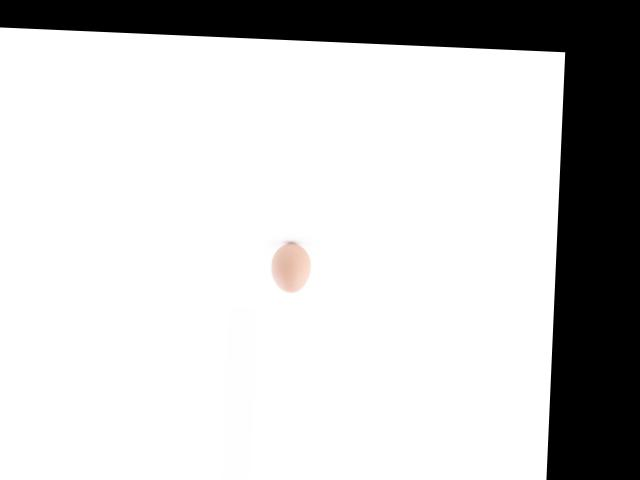egg: (269, 242, 310, 293)
